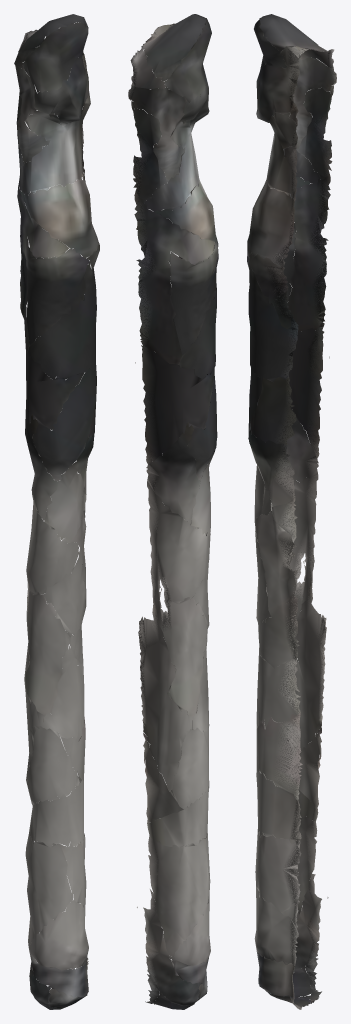
Rendered from scan_fitted.glb.
3 views of the same model, side by side, from view 1: azimuth 90°, elevation 25°; view 2: azimuth 150°, elevation 25°; view 3: azimuth 330°, elevation 25° (orthographic).
Visible parts, largest first — view 1: KIRI_Scanned_Marker; view 2: KIRI_Scanned_Marker; view 3: KIRI_Scanned_Marker.
Part boxes in pixels (x1,y1,x2,y2): KIRI_Scanned_Marker: [14, 14, 99, 1009]; KIRI_Scanned_Marker: [128, 14, 218, 1009]; KIRI_Scanned_Marker: [247, 14, 336, 1009].
Bounding box in the file's own units: 0.0117 × 0.165 × 0.0129.
Materials: 1 (1 with a texture image).
